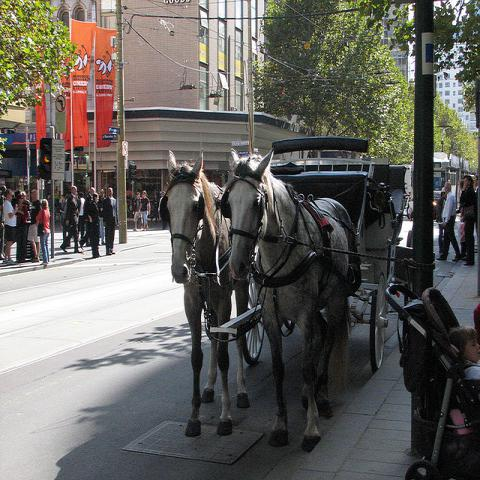bus: (432, 152, 469, 210)
